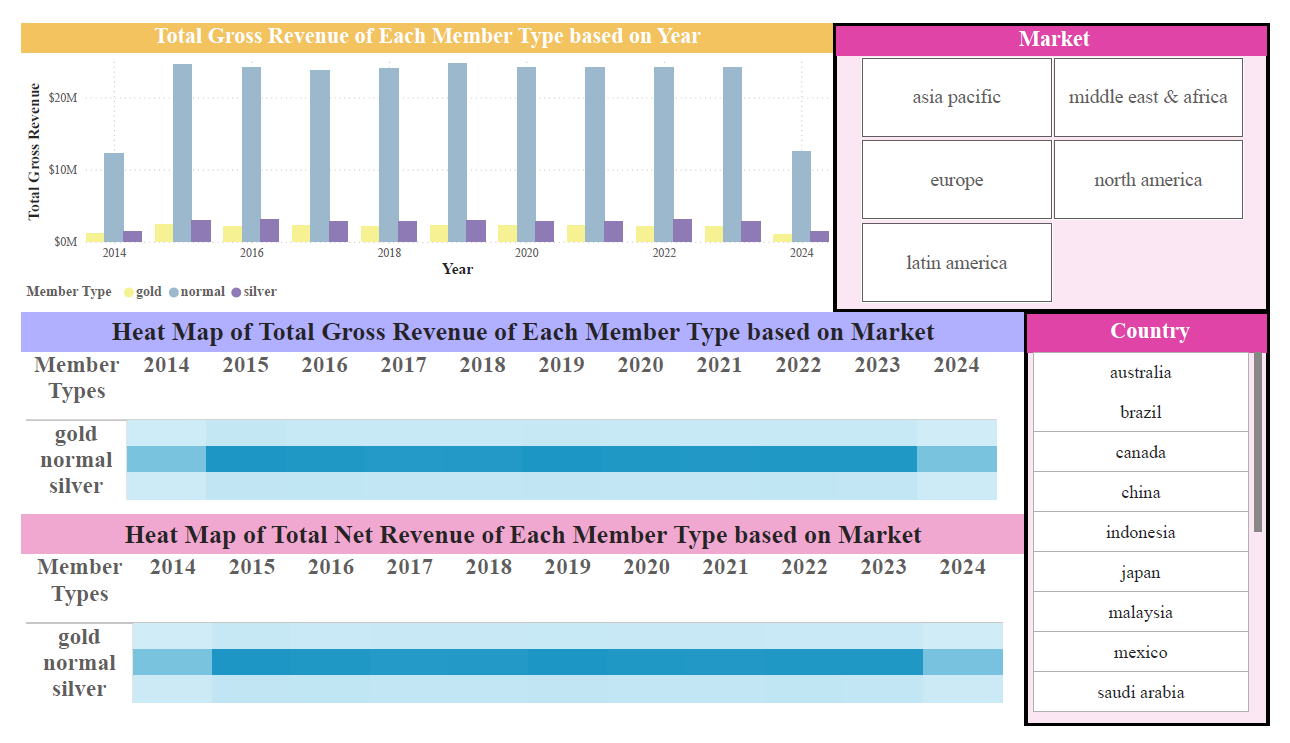

The dashboard page shown, as its layout file describes it:
{"tool":"powerbi","page":{"name":"Discount Effectiveness","canvas":[1280,720],"ordinal":9},"visuals":[{"type":"clusteredColumnChart","title":"Total Gross Revenue of Each Member Type based on Year","fields":{"Y":["Sum(orderdata.gross revenue)"],"Category":["OrderDate.Year"],"Series":["member data.member type "]},"box":[0,0,833.5,295.9],"z":0},{"type":"slicer","title":"Market","fields":{"Values":["country.market"]},"box":[833.5,0,447,295.9],"z":1000},{"type":"pivotTable","title":"Heat Map of Total Gross Revenue of Each Member Type based on Market","fields":{"Values":["Sum(orderdata.gross revenue)"],"Rows":["discountrate data.member type"],"Columns":["OrderDate.Year"]},"box":[0,295.9,1029.1,208.4],"z":2000},{"type":"pivotTable","title":"Heat Map of Total Net Revenue of Each Member Type based on Market","fields":{"Rows":["discountrate data.member type"],"Columns":["OrderDate.Year"],"Values":["Sum(orderdata.net revenue)"]},"box":[0,504.2,1029.1,216.3],"z":3000},{"type":"advancedSlicerVisual","title":"Country","fields":{"Values":["country.country"]},"box":[1029.1,295.9,251.3,424.7],"z":4000}]}

Visuals, with their boxes in screenshot pixels (x1, y1, x2, y2), scaled from the page's 1280x720 canvas onto the 1290x743 screenshot:
"Total Gross Revenue of Each Member Type based on Year" clusteredColumnChart: (left=0, top=0, right=840, bottom=305)
"Market" slicer: (left=840, top=0, right=1289, bottom=305)
"Heat Map of Total Gross Revenue of Each Member Type based on Market" pivotTable: (left=0, top=305, right=1037, bottom=520)
"Heat Map of Total Net Revenue of Each Member Type based on Market" pivotTable: (left=0, top=520, right=1037, bottom=742)
"Country" advancedSlicerVisual: (left=1037, top=305, right=1289, bottom=742)
